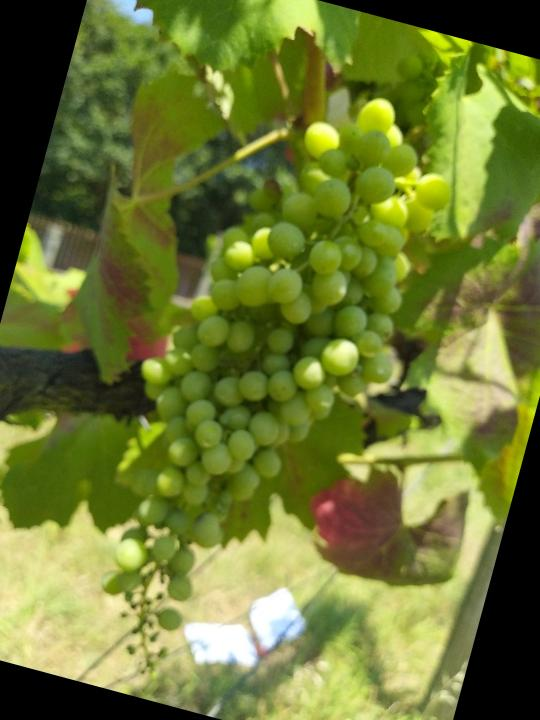grape: (54, 52, 469, 720)
